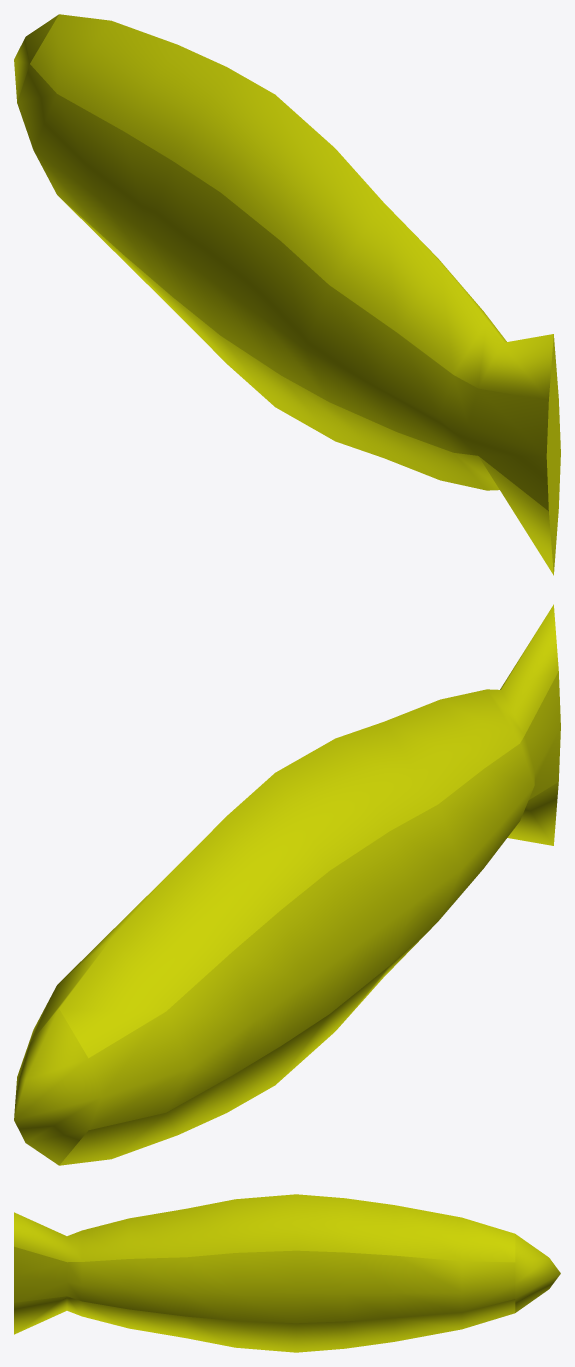
Rendered from Kozakana(Yellow).fbx.
3 renders of one model, top to bottom at view 1: azimuth 30°, elevation 25°; view 2: azimuth 150°, elevation 25°; view 3: azimuth 270°, elevation 25°, orthographic. The views are drawn at different scales.
Parts seen in each view (by area): view 1: pCube1; view 2: pCube1; view 3: pCube1.
Part boxes in pixels (<box>): pCube1: <box>14,14,560,575</box>; pCube1: <box>14,604,560,1165</box>; pCube1: <box>14,1194,560,1352</box>.
Bounding box in the file's own units: 7.48 × 14.28 × 44.69.
